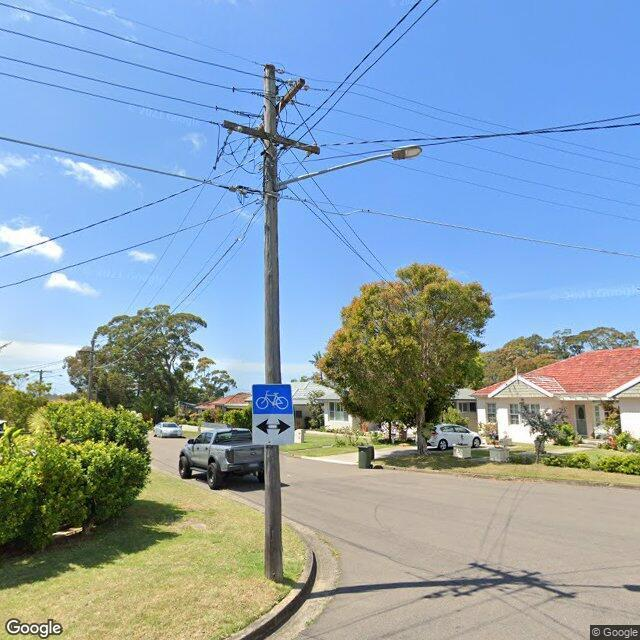crossarm: (221, 120, 320, 156), (259, 78, 306, 130), (30, 370, 52, 373)
streetlight: (273, 143, 423, 189)
timber-pole: (262, 64, 284, 580), (88, 341, 94, 402), (39, 370, 42, 397)
